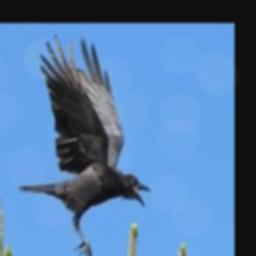Crow: (18, 37, 151, 256)
